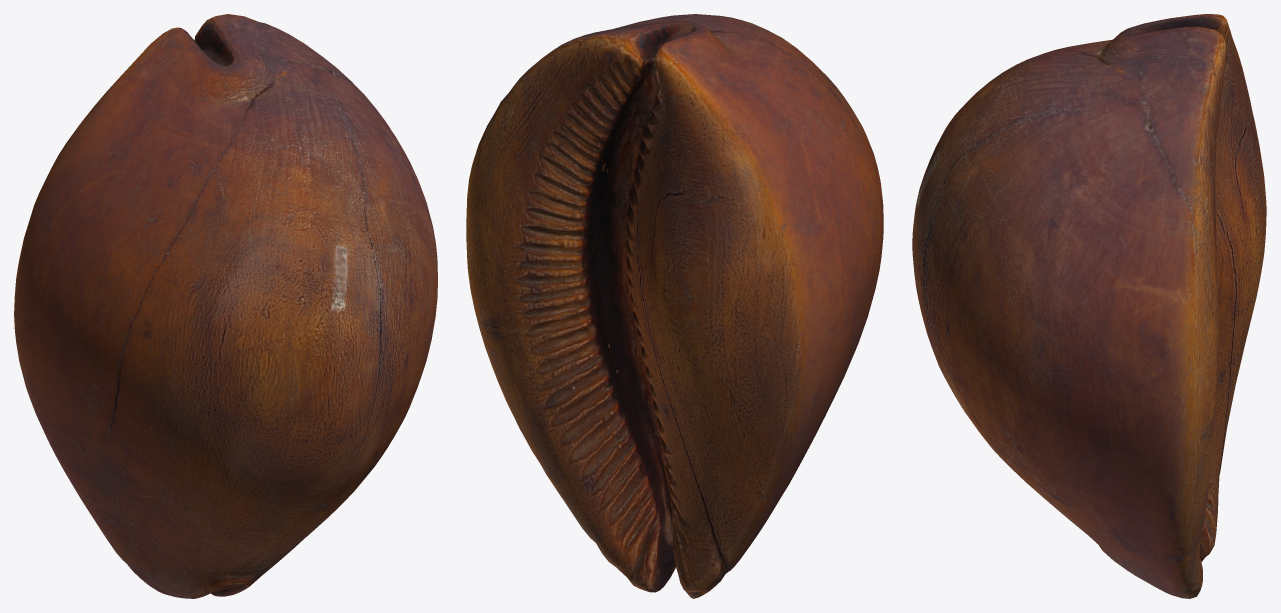
File: Caracol de madera-Rapa Nui.obj
The picture shows the model from 3 angles, left to right: view 1: azimuth 30°, elevation 25°; view 2: azimuth 150°, elevation 25°; view 3: azimuth 270°, elevation 25°; orthographic projection.
Visible parts, largest first — view 1: mmGroup0; view 2: mmGroup0; view 3: mmGroup0.
Boxes of the visible parts, x1,y1,x2,y2 form: mmGroup0: (14, 14, 437, 598); mmGroup0: (466, 14, 883, 598); mmGroup0: (912, 14, 1266, 598).
Size of the model in its own units: 75.9 by 110 by 61.74.
Materials: 1 (1 with a texture image).
